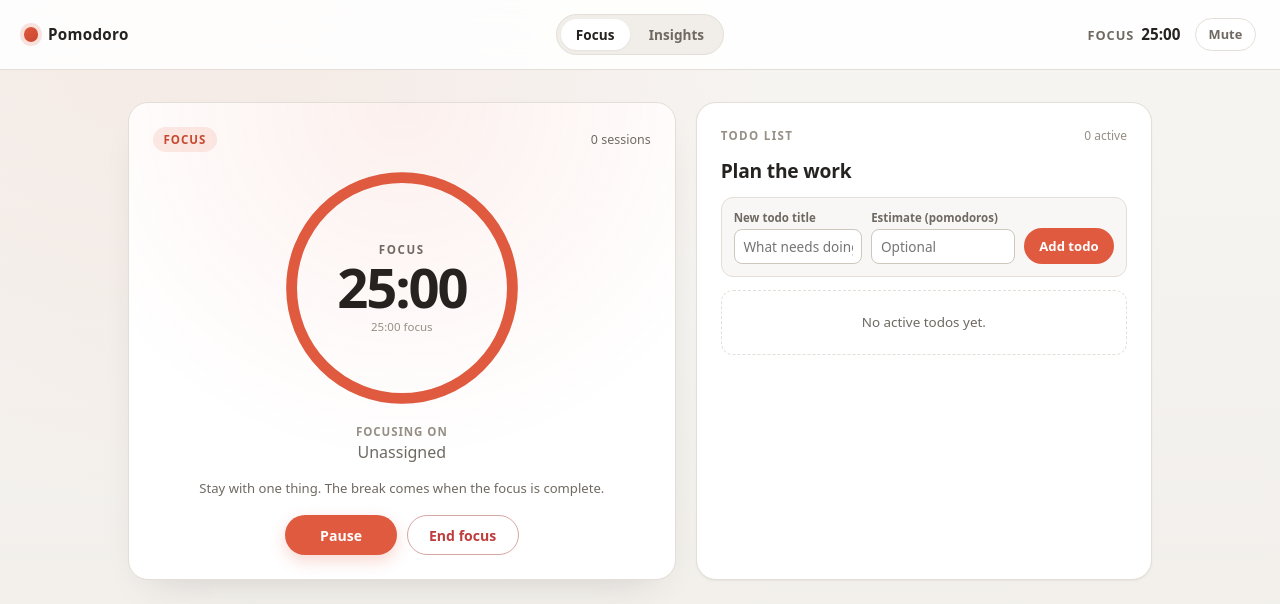
Test case: App › surfaces an end focus command failure
The width and height of the screenshot is (1280, 604).
expect the button "Pause" is shown: met, box top-left (285, 515), bottom-right (397, 555)
Click the button "End focus" at (463, 535), box top-left (407, 515), bottom-right (519, 555)
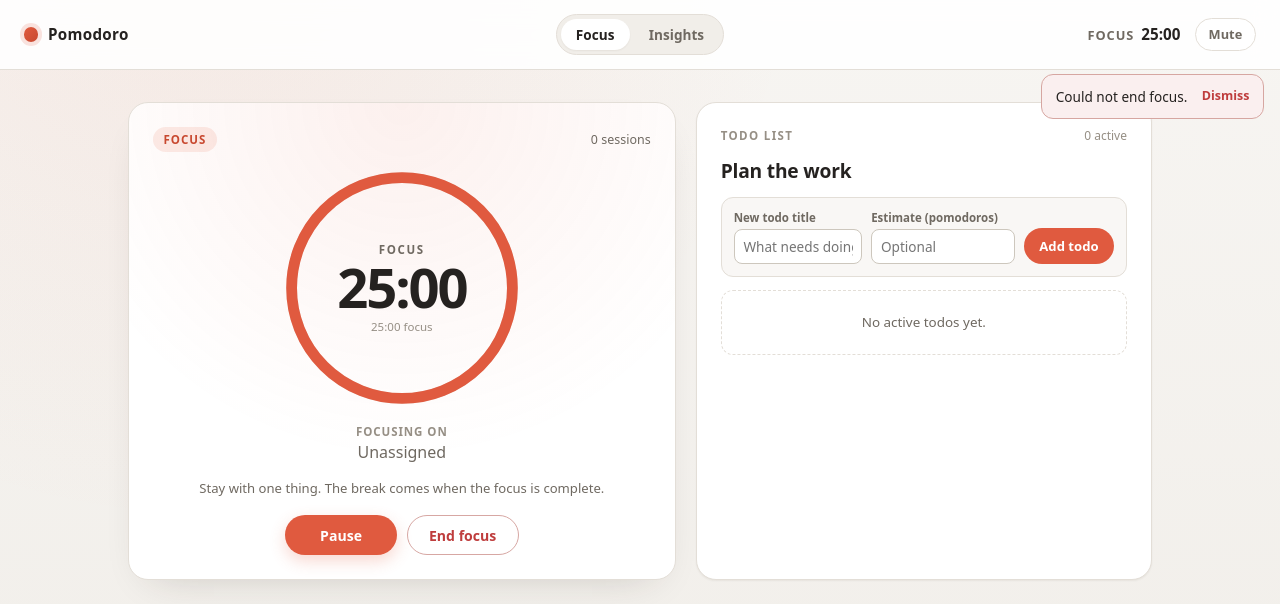
expect the text "Could not end focus." is shown: met, box top-left (1056, 87), bottom-right (1187, 106)
